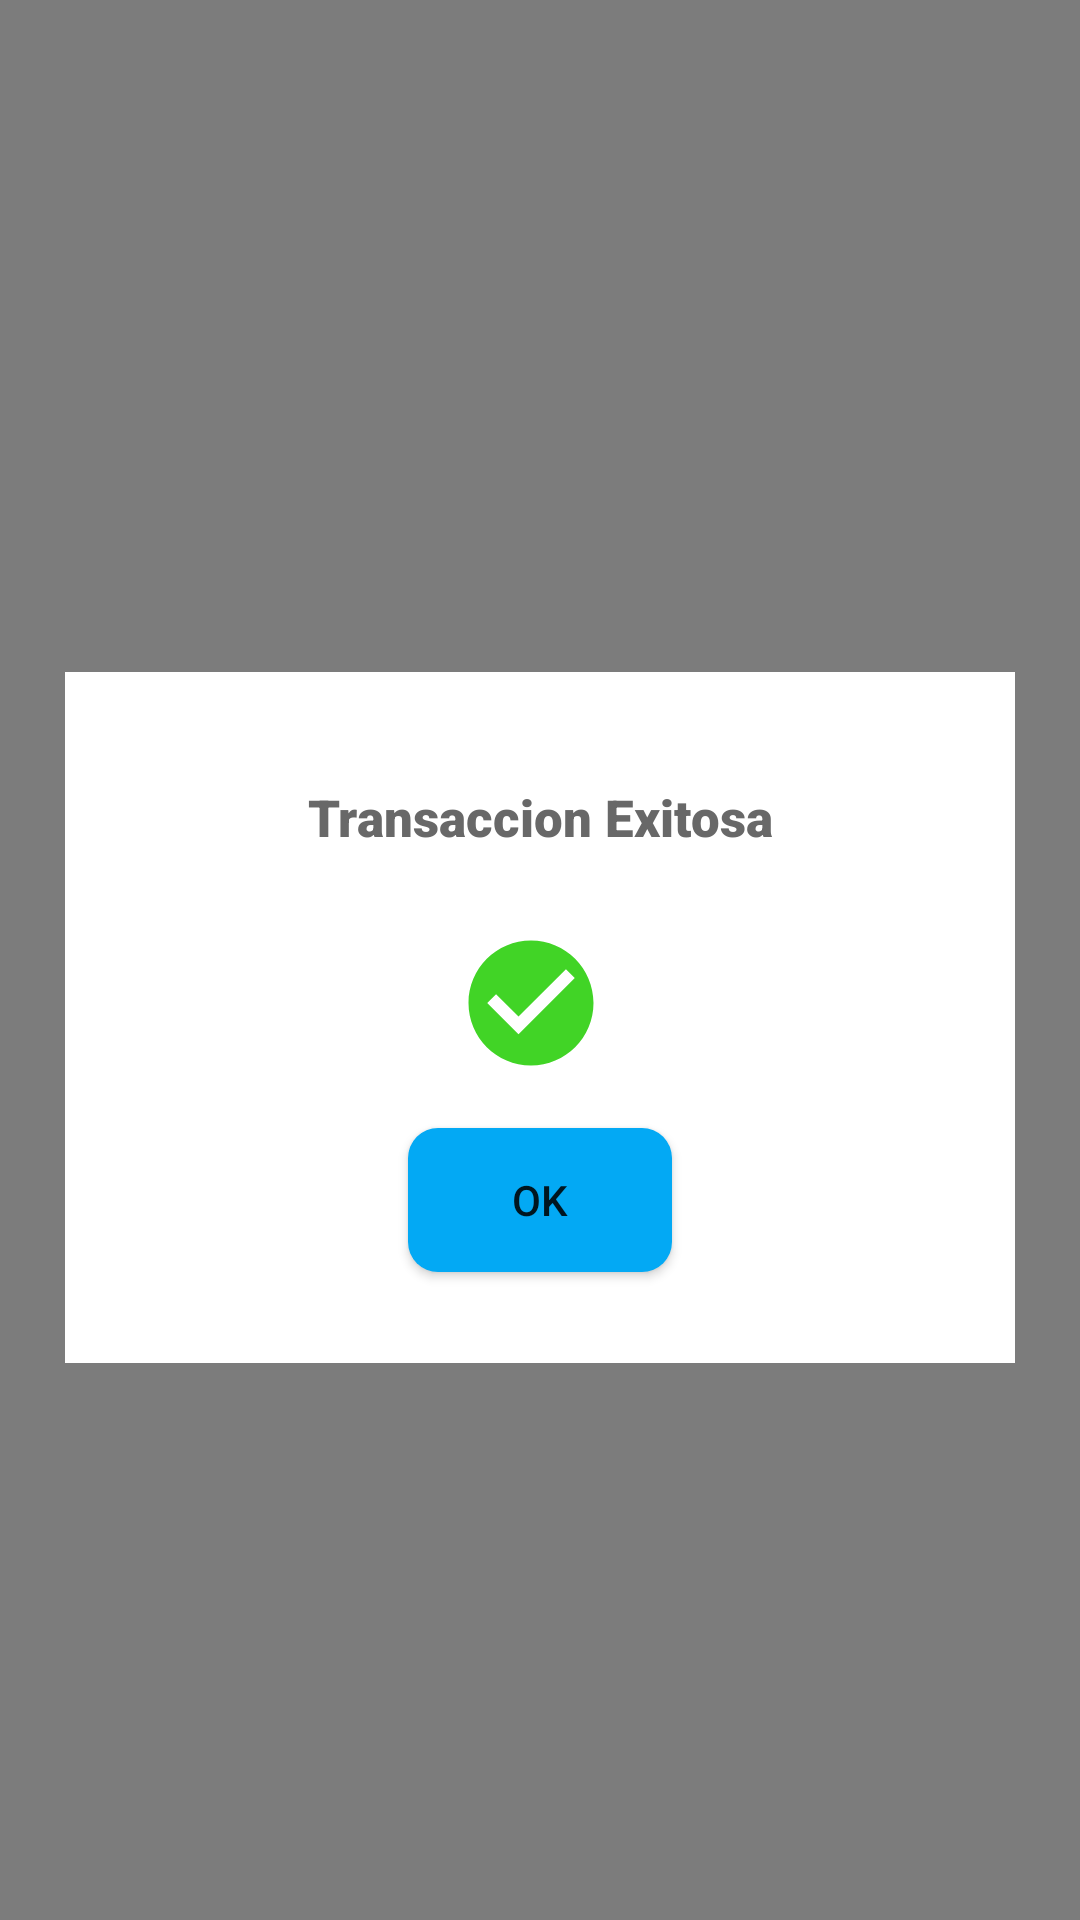

Where to tap for icons on this 1080 x 1920 app screen, as (x,y):
checkimg: (531,1003)
